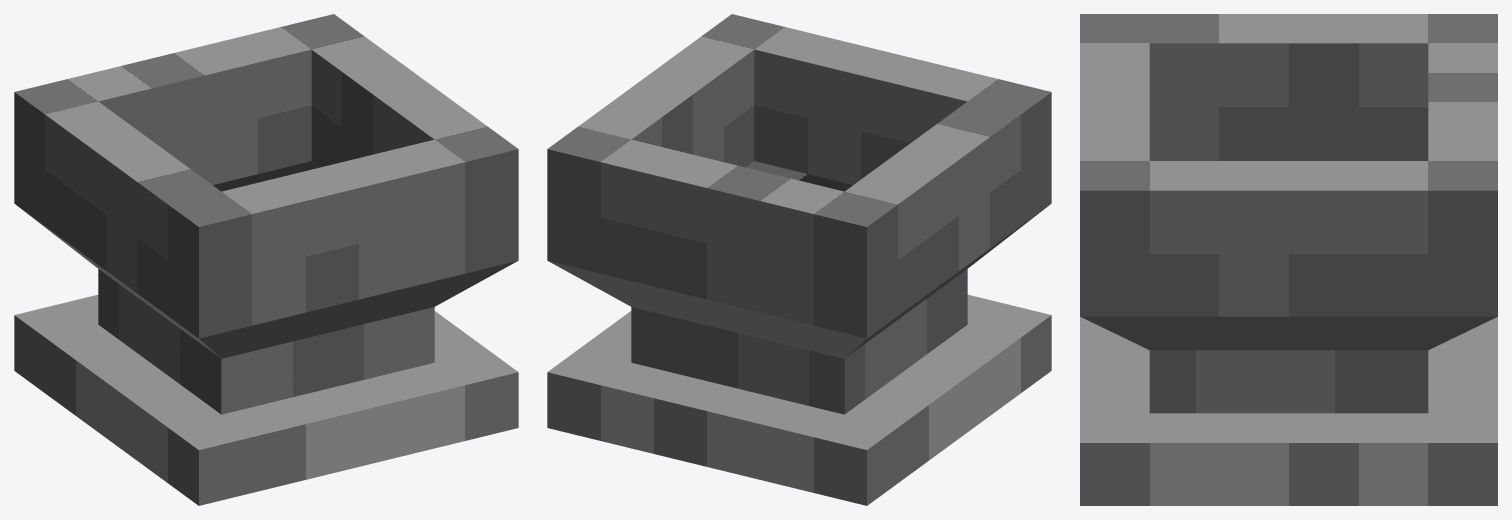
The model's file is fire_holder.fbx.
3 views of the same model, side by side, from view 1: azimuth 30°, elevation 25°; view 2: azimuth 150°, elevation 25°; view 3: azimuth 270°, elevation 25° (orthographic). The views are drawn at different scales.
Parts seen in each view (by area): view 1: pCube19; view 2: pCube19; view 3: pCube19.
Boxes of the visible parts, box(x1,y1,x2,y2) form: pCube19: box(14, 14, 518, 505); pCube19: box(547, 14, 1051, 505); pCube19: box(1080, 14, 1497, 505).
Size of the model in its own units: 1.5 by 1.25 by 1.5.
1 material, 1 textured.
